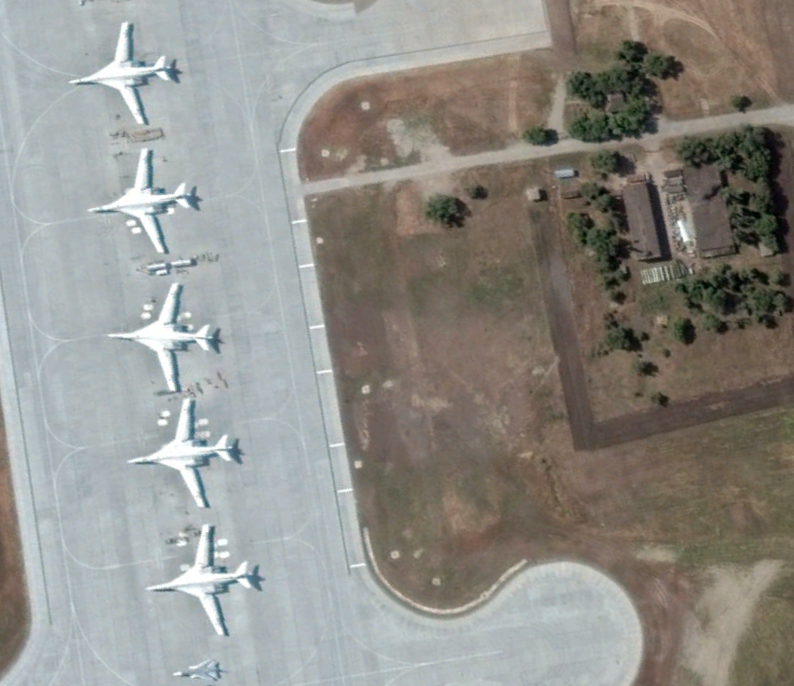A20: (164, 655, 238, 684)
A6: (66, 17, 186, 132), (85, 140, 206, 253), (100, 279, 221, 392), (123, 393, 244, 506), (143, 525, 264, 638)
